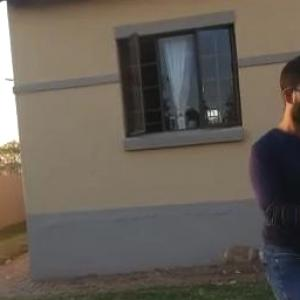follow: (242, 51, 300, 299)
null: (207, 240, 272, 279)
